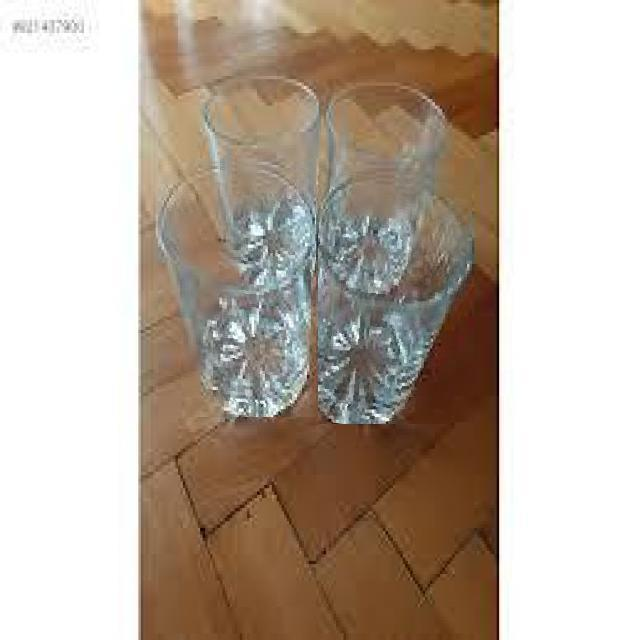Glass: (158, 158, 316, 418), (318, 170, 473, 424)
